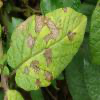Potato leaf early blight: (6, 6, 88, 91)
